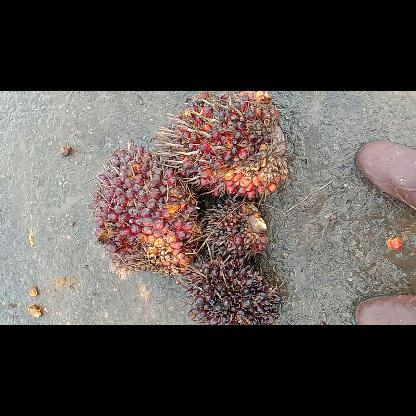TBS abnormal: (182, 244, 284, 324), (202, 198, 272, 262)
TBS masak: (86, 138, 202, 278), (152, 92, 290, 202)
